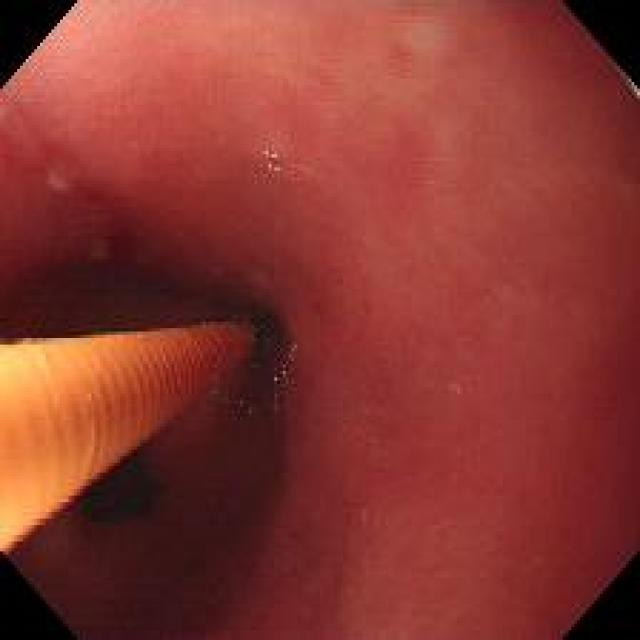bubbles: (257, 143, 297, 184)
color misalignment: (259, 147, 283, 175), (211, 390, 231, 405), (286, 344, 300, 363)
contrast: (10, 256, 269, 612), (82, 438, 160, 521)
instrument: (3, 309, 255, 565)
